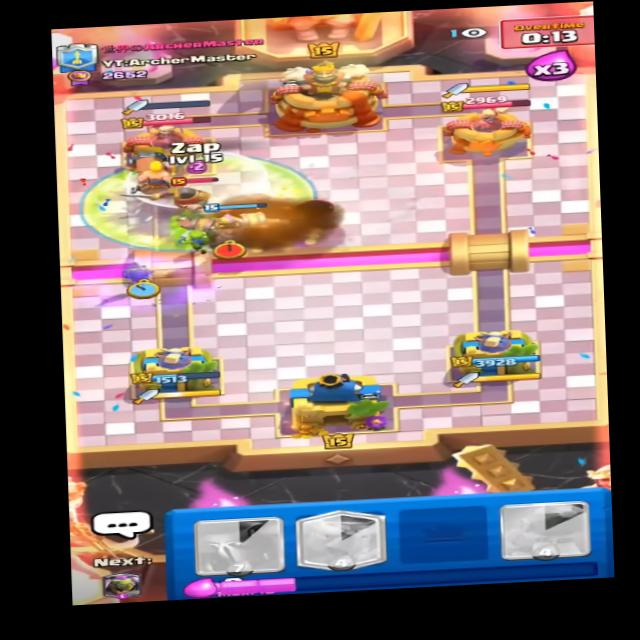knight: (165, 169, 233, 211)
